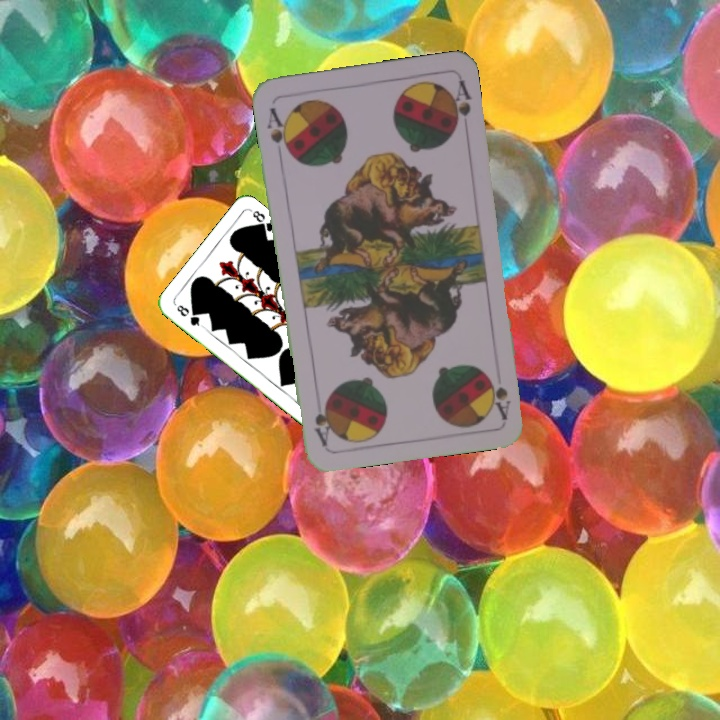G8: (172, 301, 206, 330)
SA: (263, 103, 293, 158), (483, 370, 513, 422)
